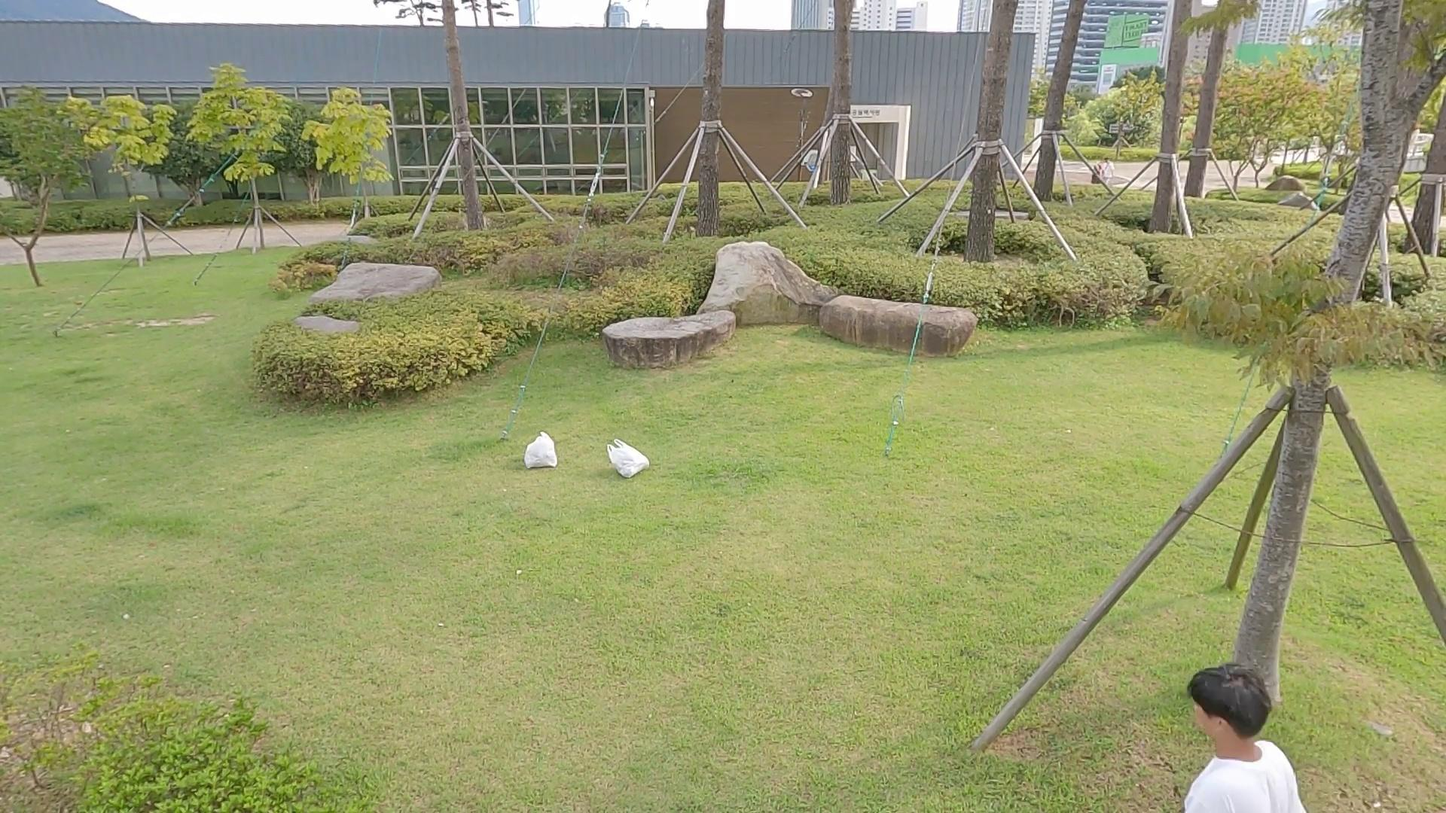person: (1180, 662, 1308, 813)
trash: (605, 438, 650, 480), (523, 432, 560, 469)
